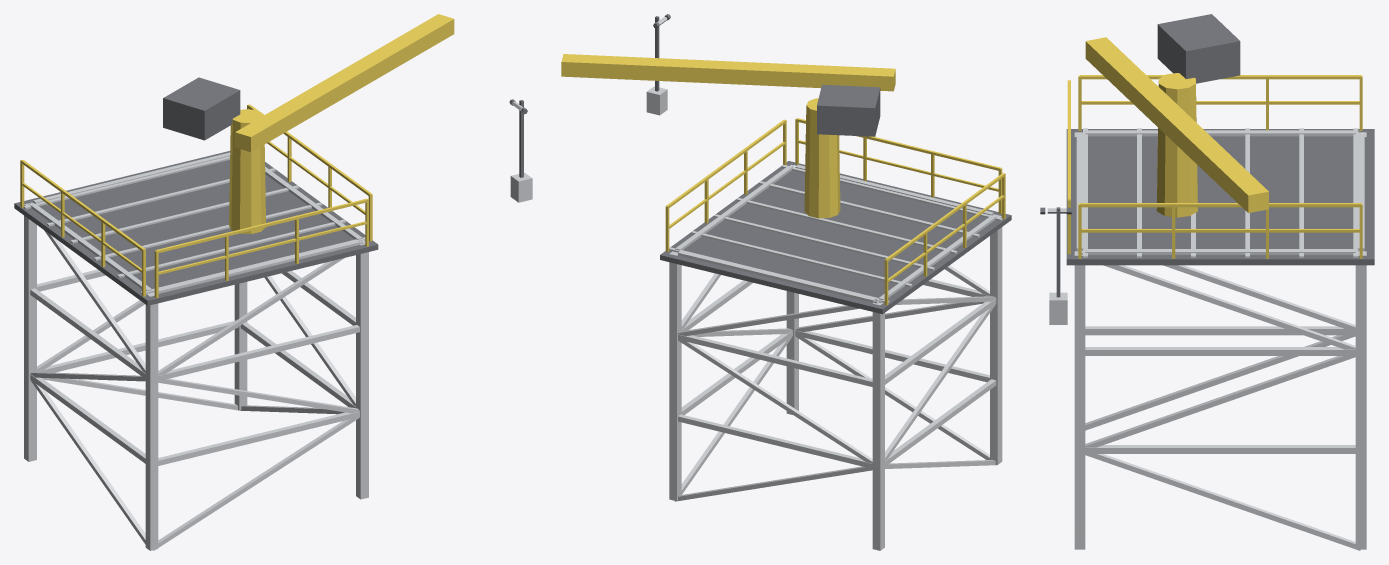
Rendered from gantrytop.glb.
3 renders of one model, left to right at view 1: azimuth 30°, elevation 25°; view 2: azimuth 150°, elevation 25°; view 3: azimuth 270°, elevation 25°, orthographic. The views are drawn at different scales.
Parts seen in each view (by area): view 1: gantry-crane-section; view 2: gantry-crane-section; view 3: gantry-crane-section.
Part boxes in pixels (x1,y1,x2,y2): gantry-crane-section: (14,14,532,550); gantry-crane-section: (561,14,1011,550); gantry-crane-section: (1040,14,1374,550).
Bounding box in the file's own units: 9.52 × 9.3 × 6.19.
